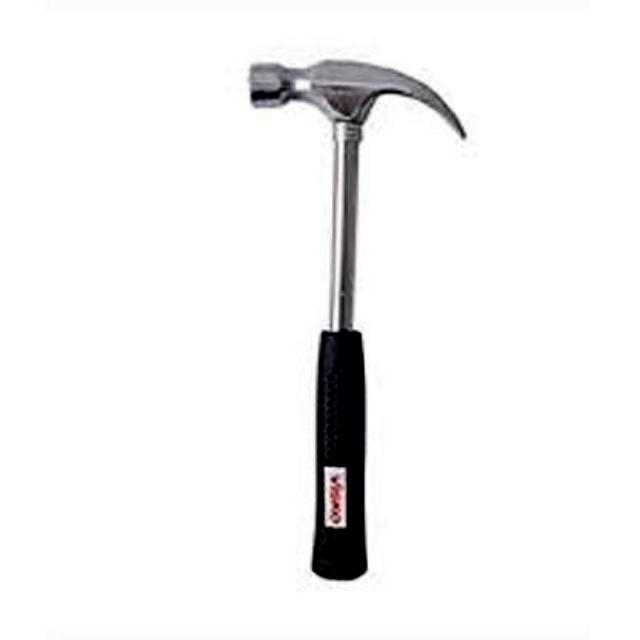hammer: (242, 48, 496, 590)
